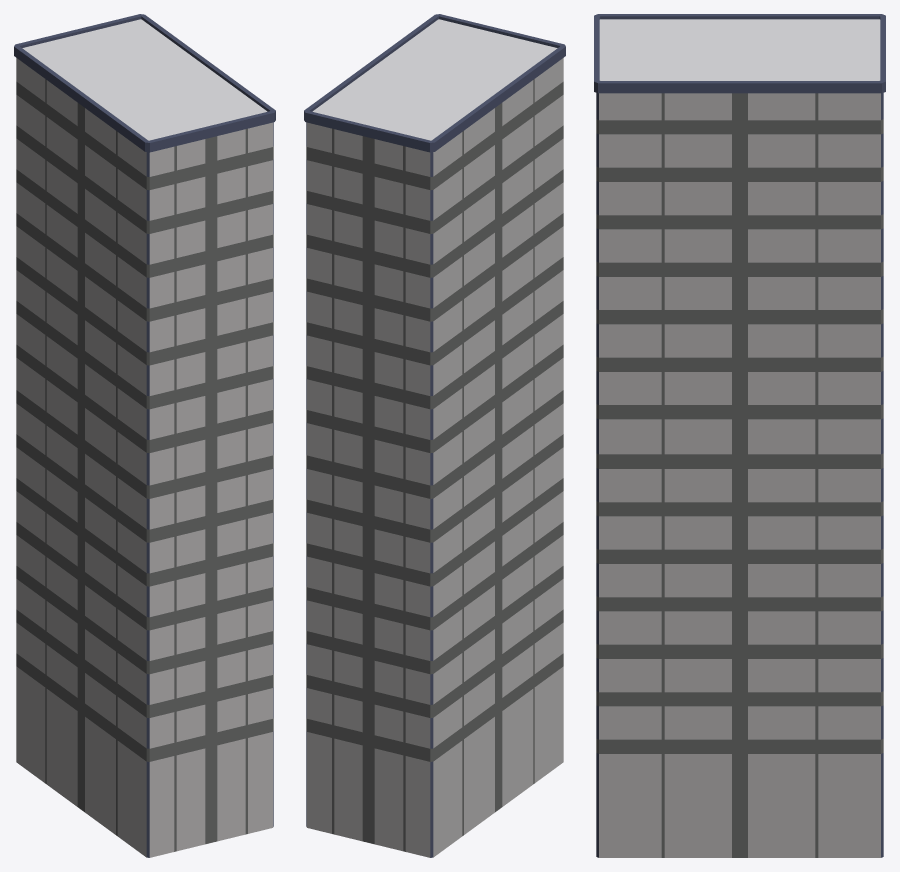
Rendered from Building_09.fbx.
3 renders of one model, left to right at view 1: azimuth 30°, elevation 25°; view 2: azimuth 150°, elevation 25°; view 3: azimuth 270°, elevation 25°, orthographic. The views are drawn at different scales.
Visible parts, largest first — view 1: Building_02; view 2: Building_02; view 3: Building_02.
Boxes of the visible parts, left/top/right/bottom form: Building_02: left=14, top=14, right=275, bottom=857; Building_02: left=304, top=14, right=565, bottom=857; Building_02: left=594, top=14, right=885, bottom=857.
Bounding box in the file's own units: 2163 × 11305 × 3856.
